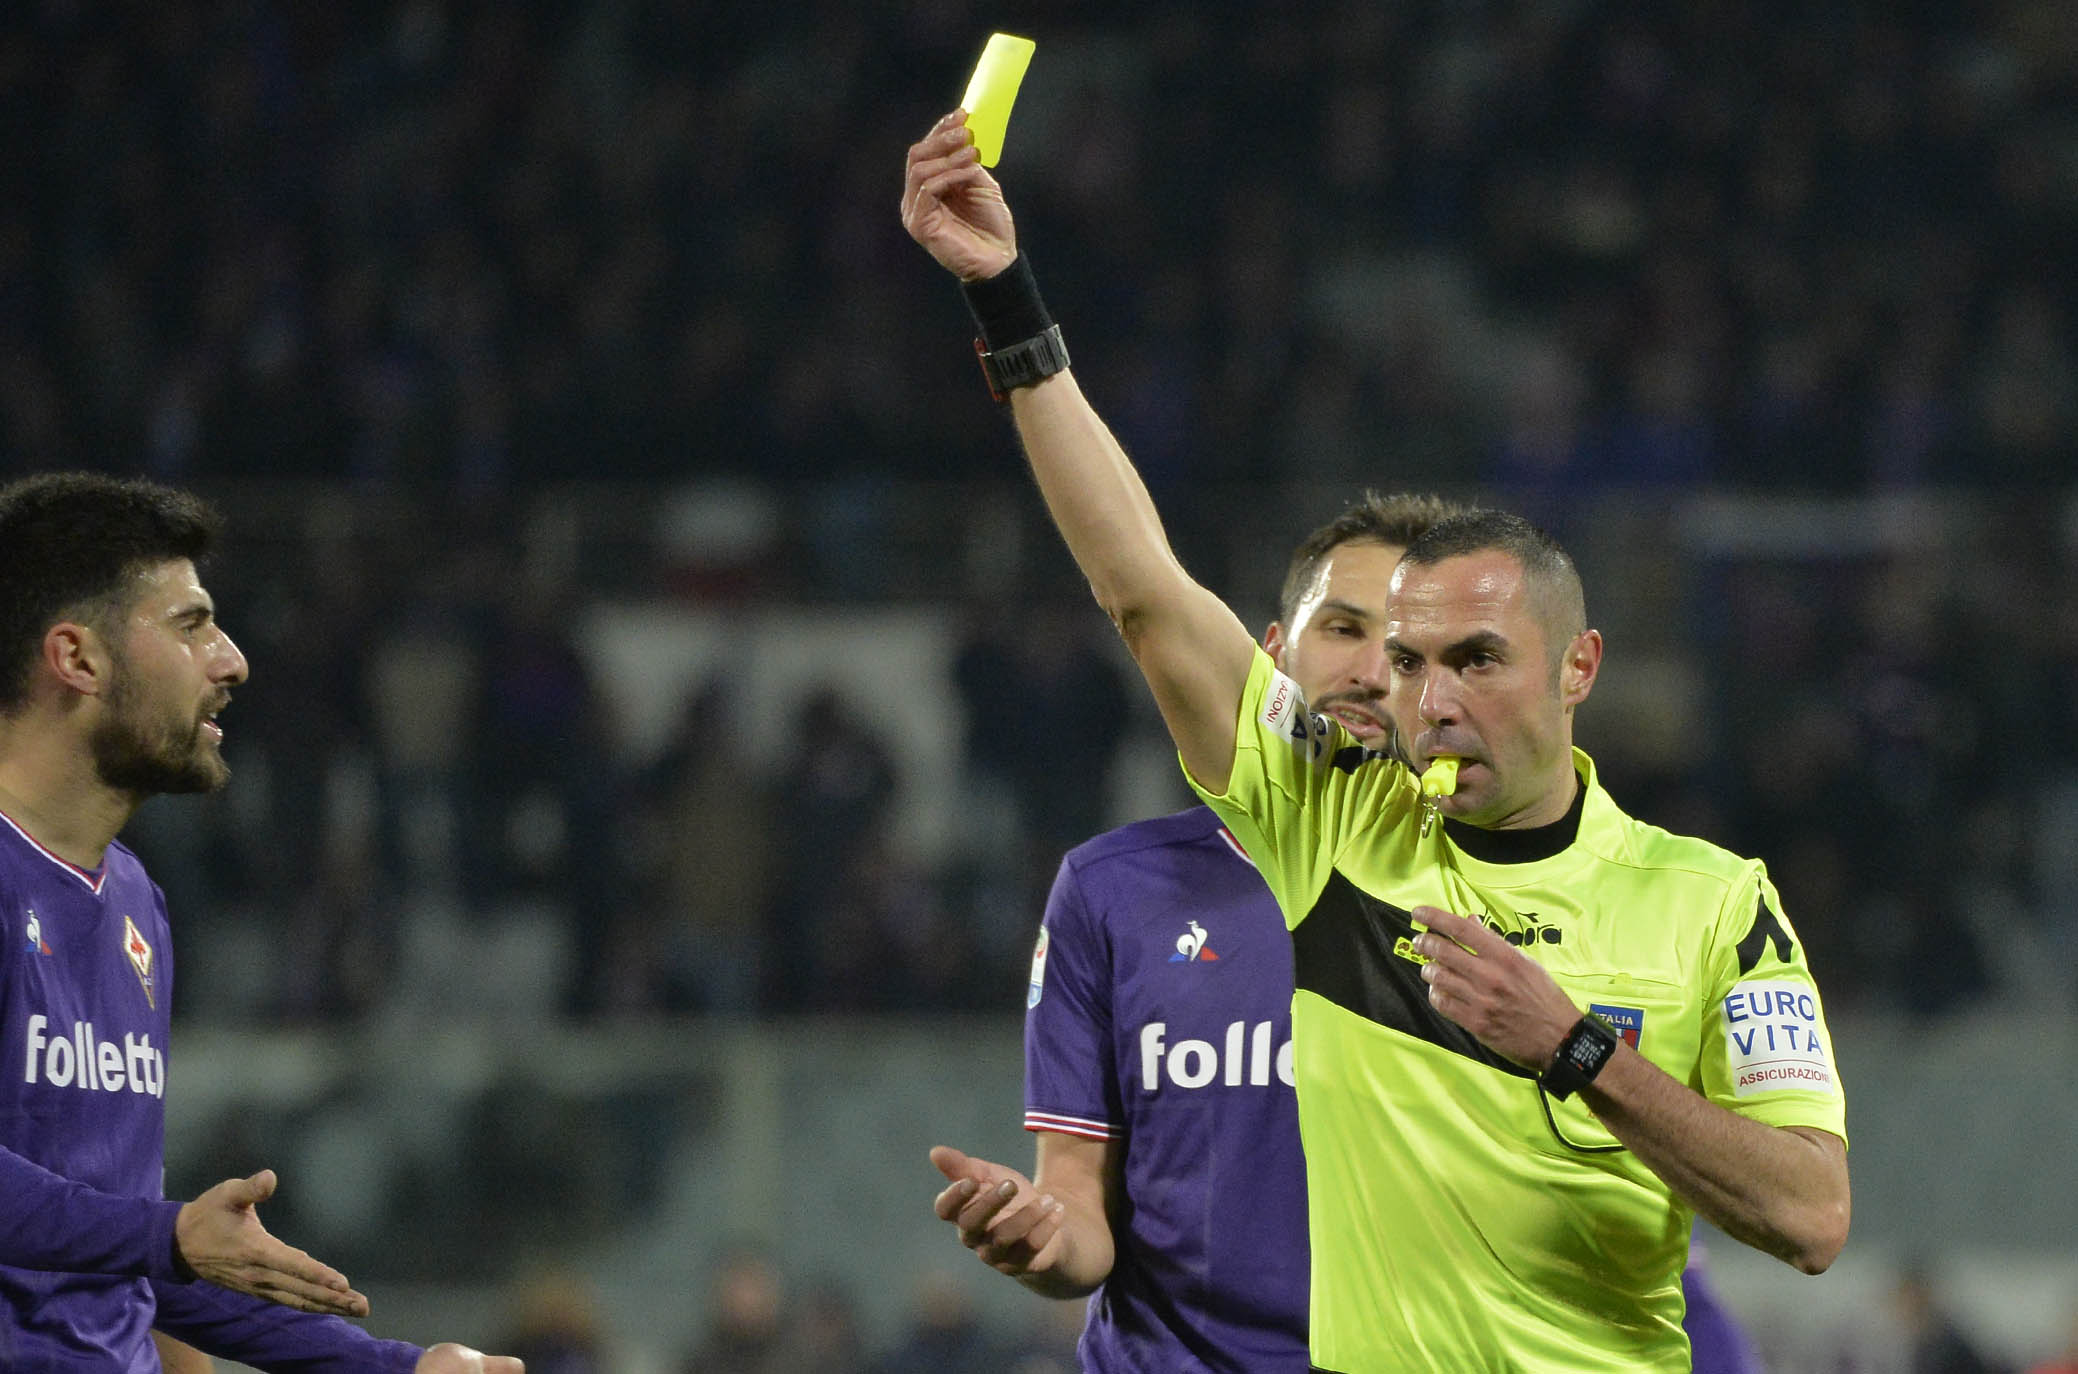yellow_card: (862, 25, 1089, 279)
